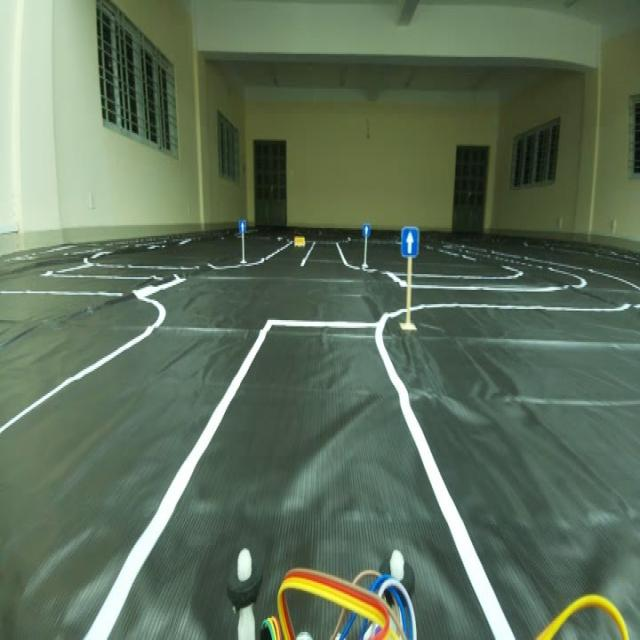onewayroad: (400, 224, 421, 267), (361, 218, 371, 240), (239, 215, 245, 230)
roadblock: (294, 234, 304, 249)
